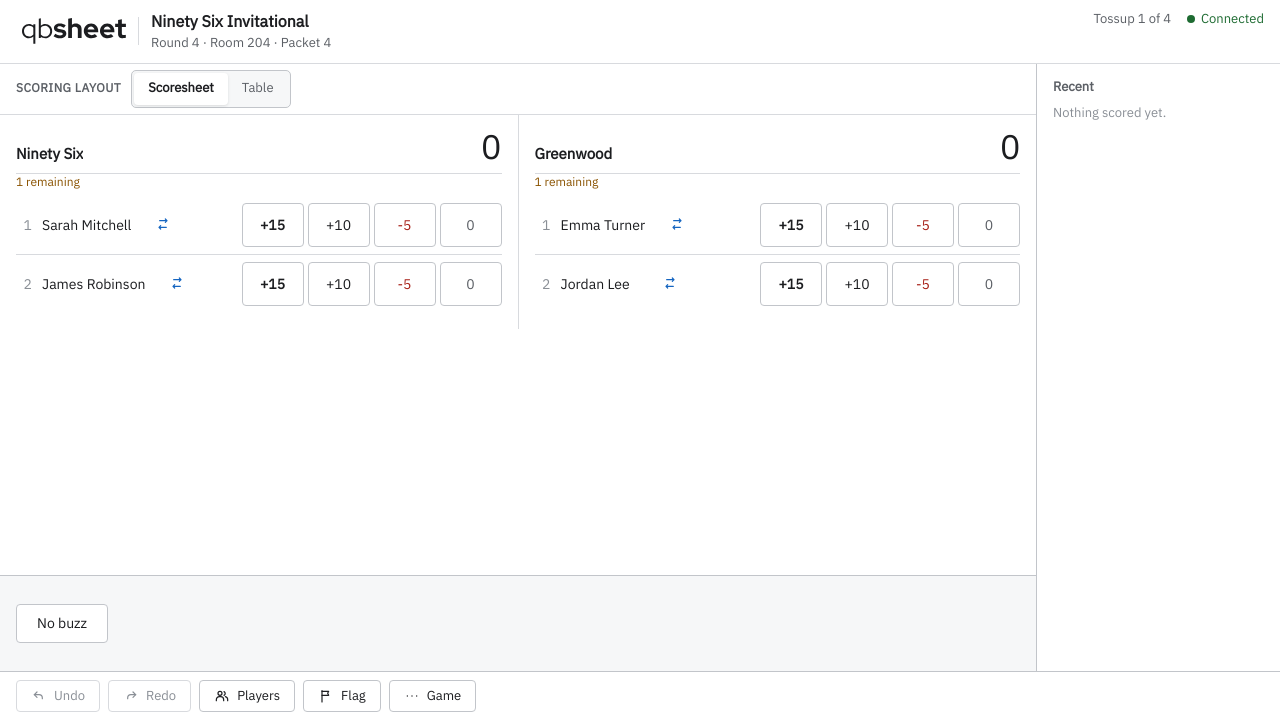
Scenario: Game details › reads as a summary, with an action only beside what can be changed
Click the button "Game" at (432, 696), box [389,680,476,712]
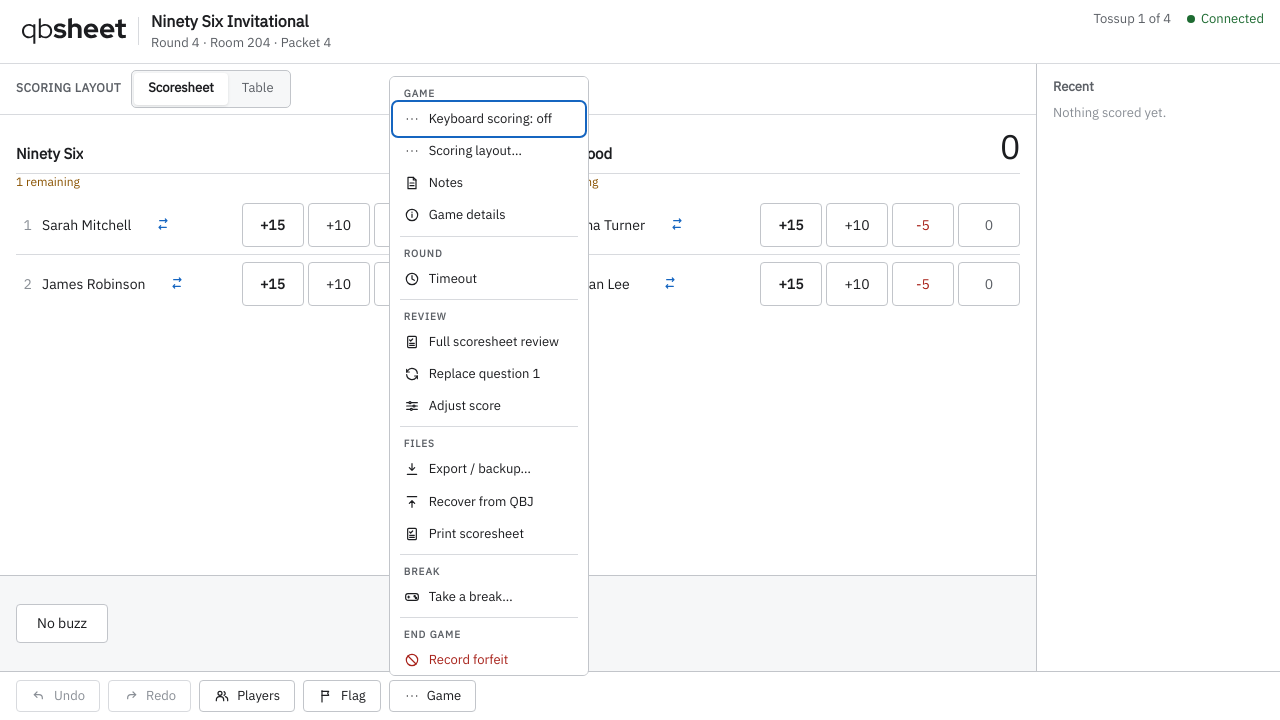
Click the menu item "Game details" at (489, 216), box [394,199,584,232]
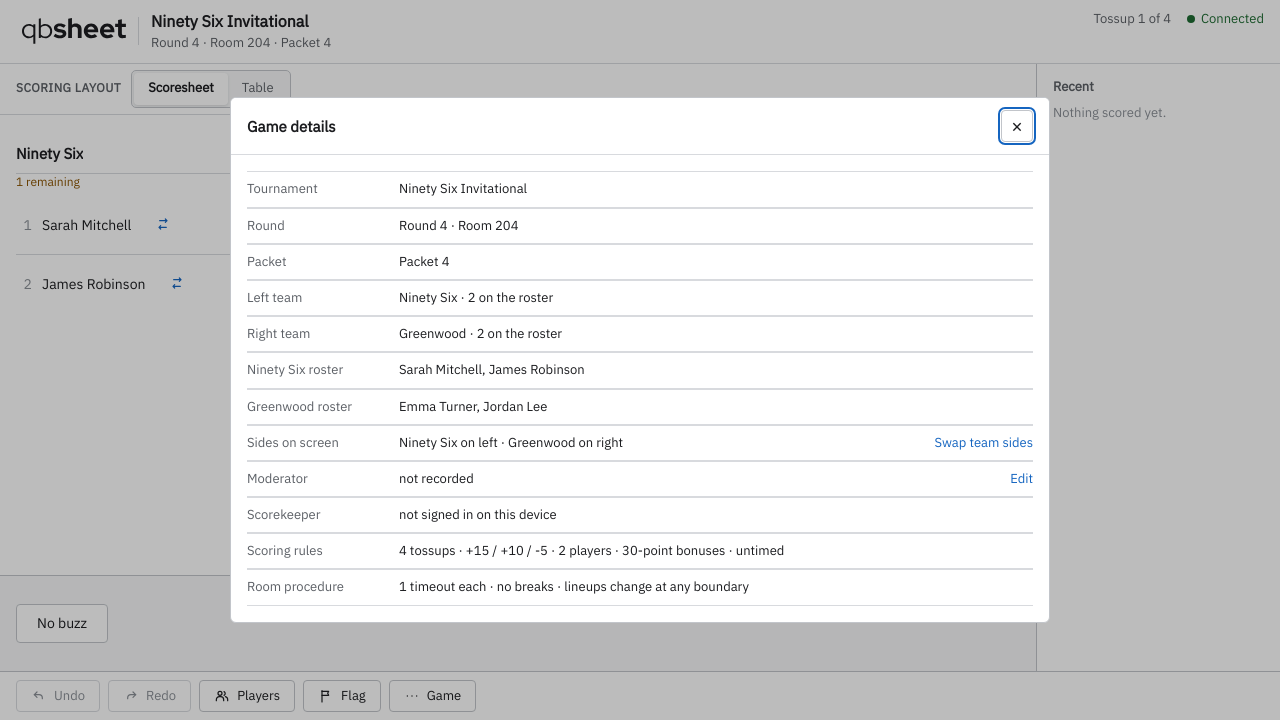
Expected: the text "Ninety Six Invitational" is shown, [399,180,527,197]
Expected: the text "Packet 4" is shown, [399,253,449,270]
Expected: the text "1 timeout each · no breaks · lineups change at any boundary" is shown, [399,578,749,595]
